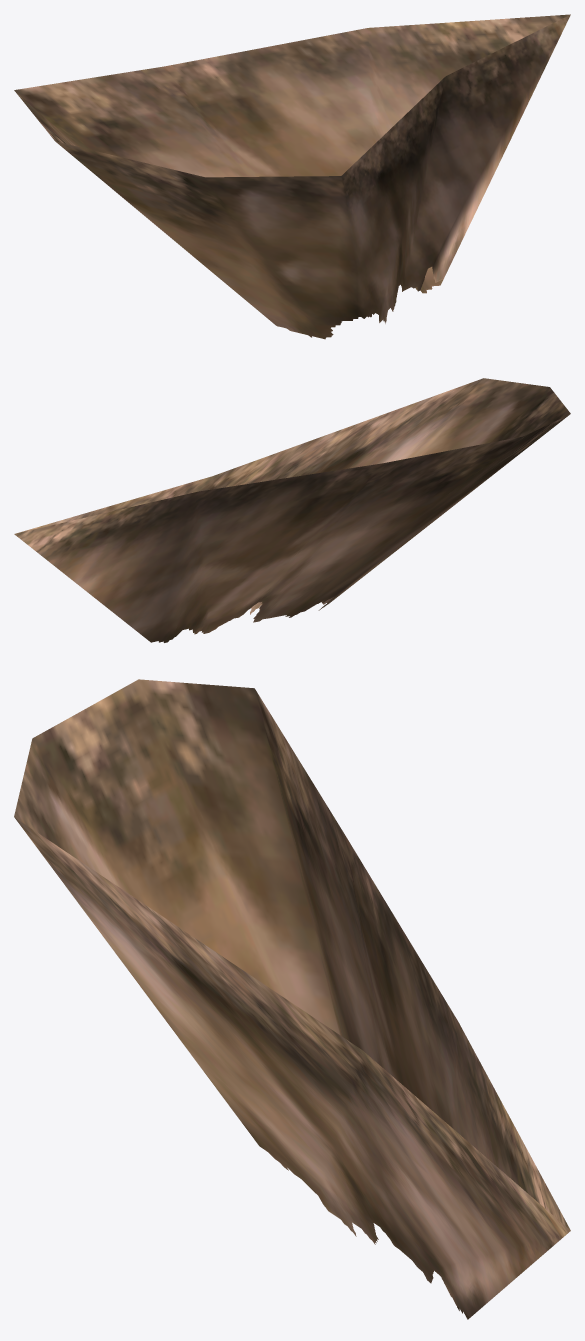
The model's file is OVERHILL_A_01_LINE51.fbx.
The picture shows the model from 3 angles, top to bottom: view 1: azimuth 30°, elevation 25°; view 2: azimuth 150°, elevation 25°; view 3: azimuth 270°, elevation 25°; orthographic projection. The views are drawn at different scales.
Parts seen in each view (by area): view 1: OVERHILL_A_01_LINE51; view 2: OVERHILL_A_01_LINE51; view 3: OVERHILL_A_01_LINE51.
Boxes of the visible parts, x1=… form: OVERHILL_A_01_LINE51: x1=14, y1=14, x2=570, y2=339; OVERHILL_A_01_LINE51: x1=14, y1=378, x2=570, y2=642; OVERHILL_A_01_LINE51: x1=14, y1=679, x2=570, y2=1319.
Size of the model in its own units: 11328 by 6156 by 7812.
1 material, 1 textured.
